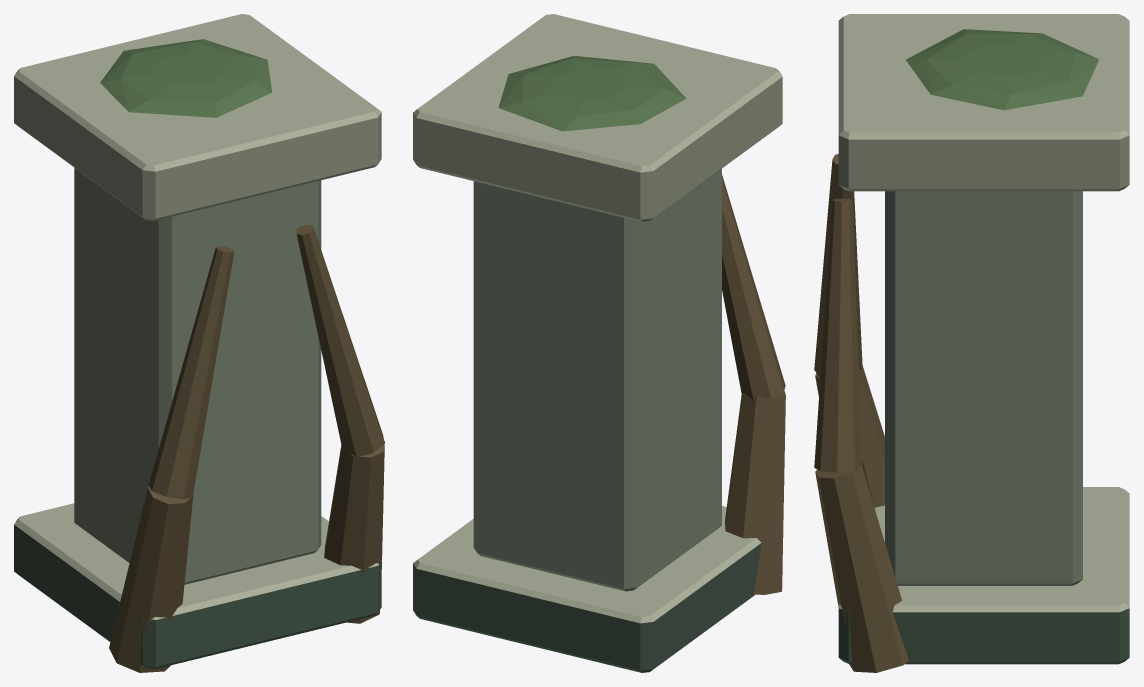
The model's file is pillar-small.glb.
The picture shows the model from 3 angles, left to right: view 1: azimuth 30°, elevation 25°; view 2: azimuth 150°, elevation 25°; view 3: azimuth 270°, elevation 25°; orthographic projection. The views are drawn at different scales.
Parts seen in each view (by area): view 1: pillar-small__body; view 2: pillar-small__body; view 3: pillar-small__body.
Part boxes in pixels (x1,y1,x2,y2): pillar-small__body: (14, 14, 384, 672); pillar-small__body: (413, 14, 785, 672); pillar-small__body: (814, 14, 1129, 672).
Size of the model in its own units: 0.7964 by 1.5 by 0.7799.
